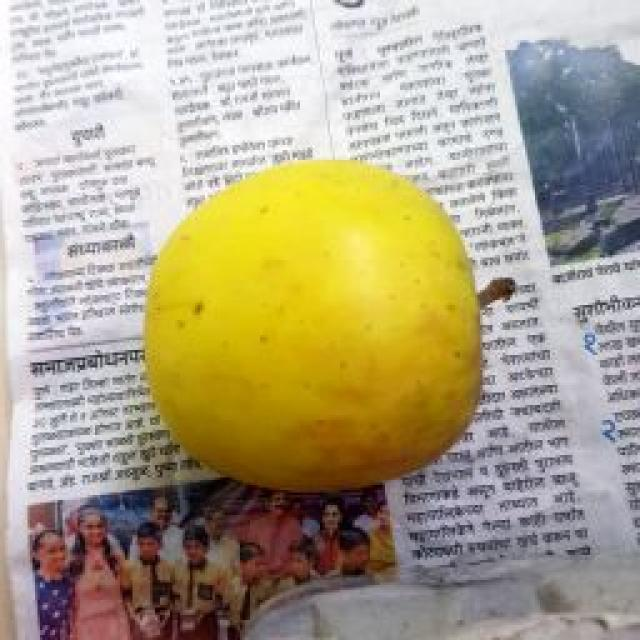Good_Apple: (142, 160, 482, 495)
